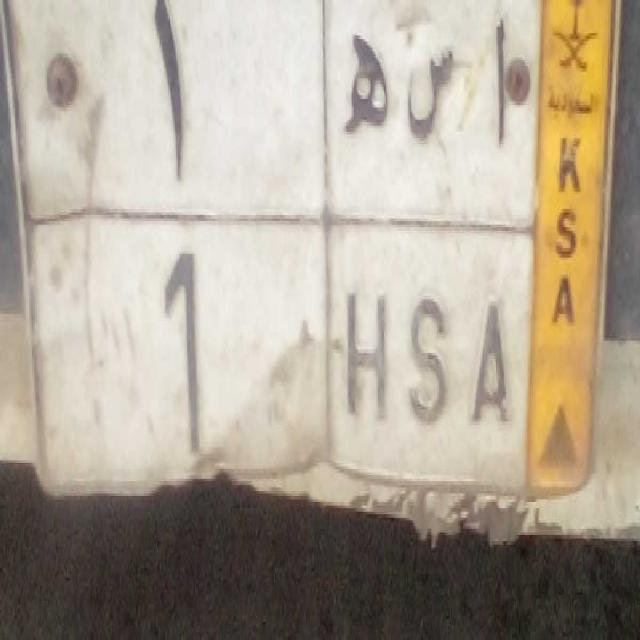license_plate: (29, 208, 532, 500)
